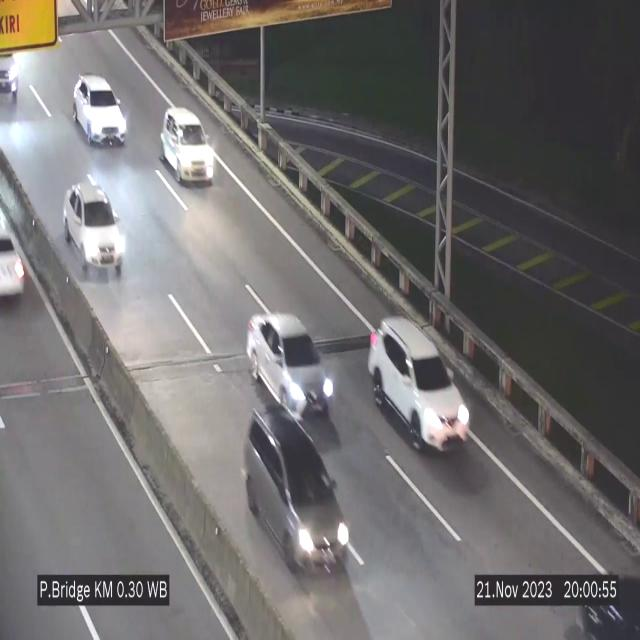Car: (245, 404, 354, 578), (368, 318, 471, 450), (247, 314, 336, 419), (64, 182, 124, 278), (160, 106, 216, 184), (73, 75, 127, 145)
